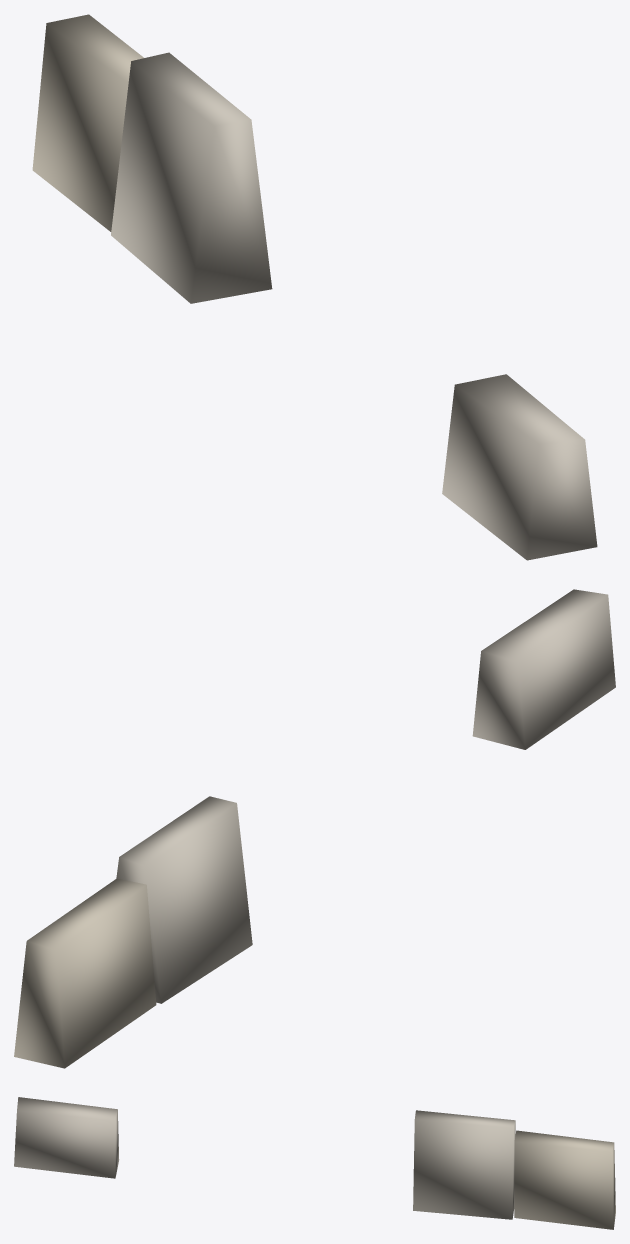
Rendered from farm_27_41_far.glb.
3 renders of one model, top to bottom at view 1: azimuth 30°, elevation 25°; view 2: azimuth 150°, elevation 25°; view 3: azimuth 270°, elevation 25°, orthographic. The views are drawn at different scales.
Parts seen in each view (by area): view 1: geometry_0; view 2: geometry_0; view 3: geometry_0.
Part boxes in pixels (x1,y1,x2,y2): geometry_0: (32, 14, 597, 560); geometry_0: (14, 589, 615, 1068); geometry_0: (14, 1097, 615, 1229).
Size of the model in its own units: 1.53 by 1.72 by 9.45.
